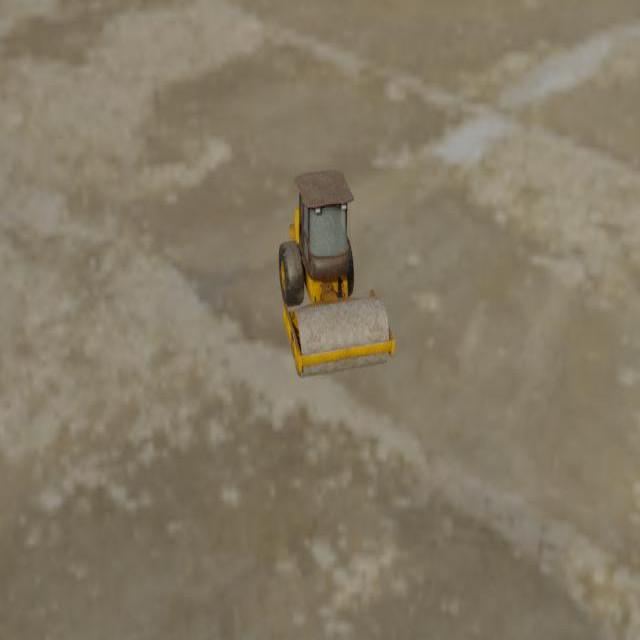Roller: (278, 169, 395, 379)
